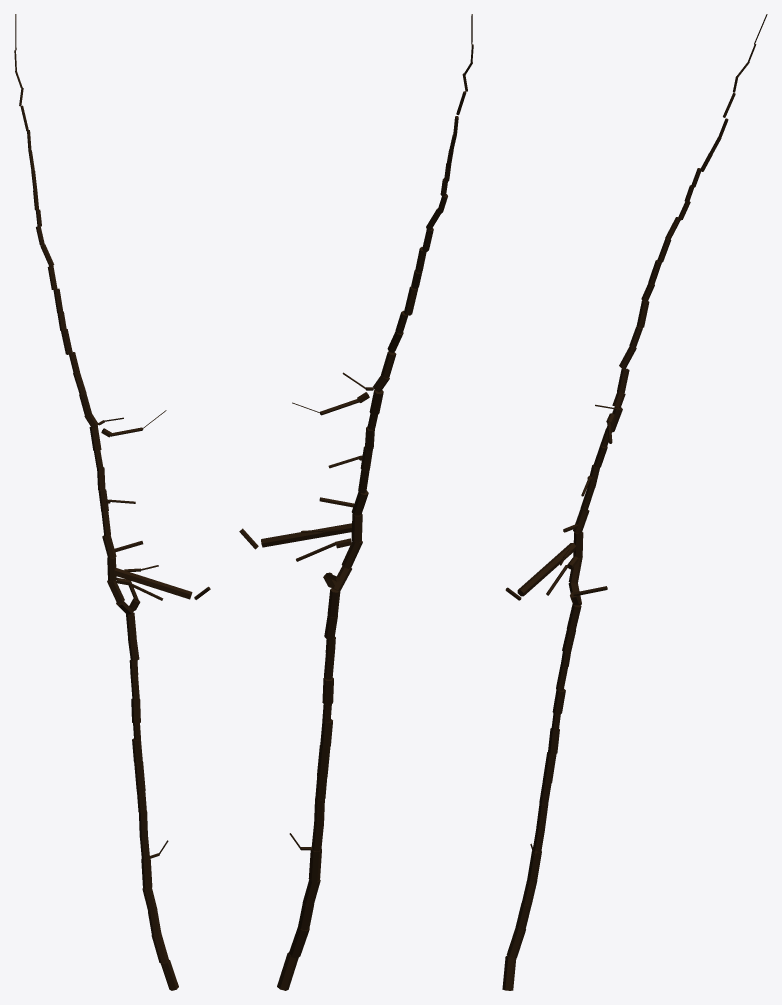
Rendered from tree_550_no_leaf.obj.
3 renders of one model, left to right at view 1: azimuth 30°, elevation 25°; view 2: azimuth 210°, elevation 25°; view 3: azimuth 270°, elevation 25°, orthographic. The views are drawn at different scales.
Visible parts, largest first — view 1: TrunkAndBranches; view 2: TrunkAndBranches; view 3: TrunkAndBranches.
Part boxes in pixels (x1,y1,x2,y2): TrunkAndBranches: (14, 14, 210, 990); TrunkAndBranches: (239, 14, 473, 990); TrunkAndBranches: (502, 14, 767, 990).
Bounding box in the file's own units: 0.7364 × 6.79 × 1.7.
